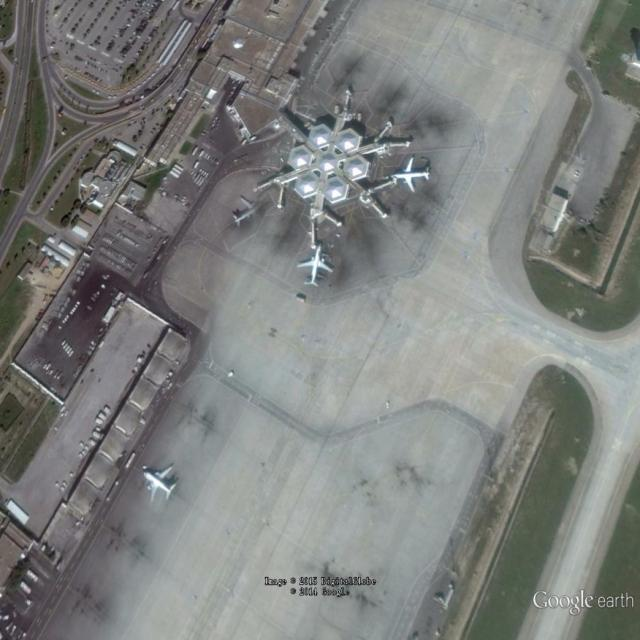aircraft: (296, 240, 337, 290), (390, 155, 434, 196), (142, 464, 179, 508), (230, 195, 270, 232)
